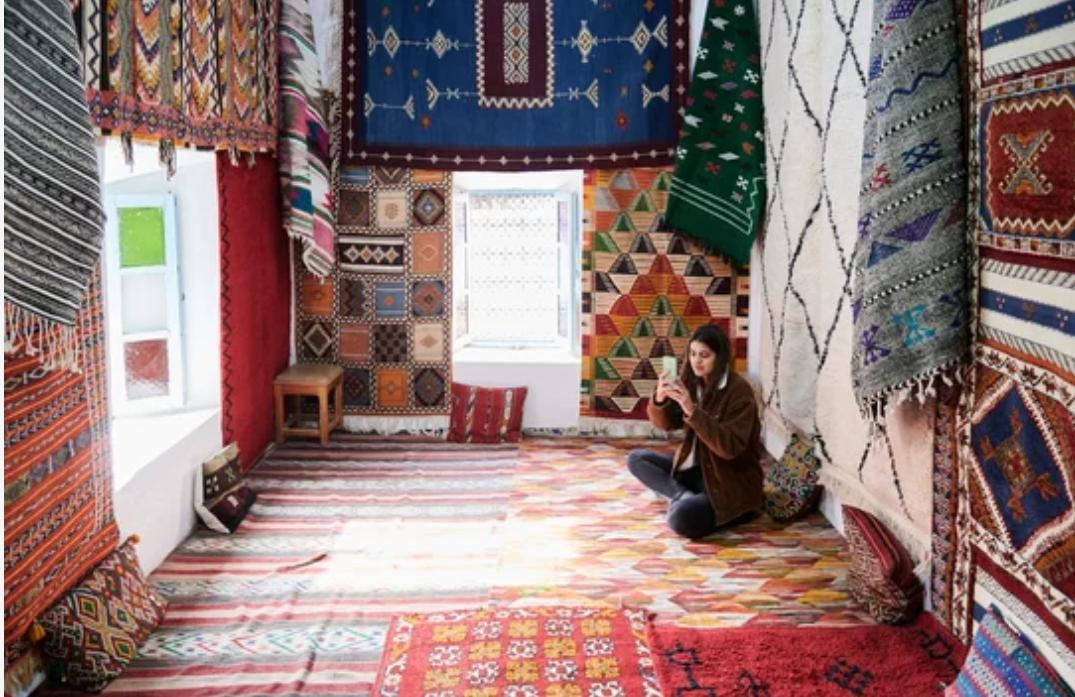carpet: (103, 430, 872, 697), (0, 1, 123, 663), (343, 0, 689, 170), (852, 0, 968, 416), (579, 168, 747, 419), (293, 165, 452, 417), (373, 606, 659, 697), (651, 615, 966, 697), (216, 151, 290, 470)
